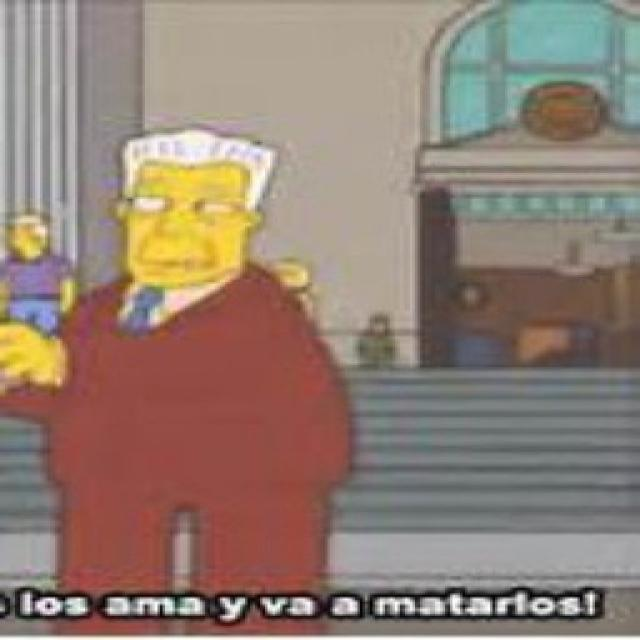Kent Brockman: (109, 125, 286, 294)
